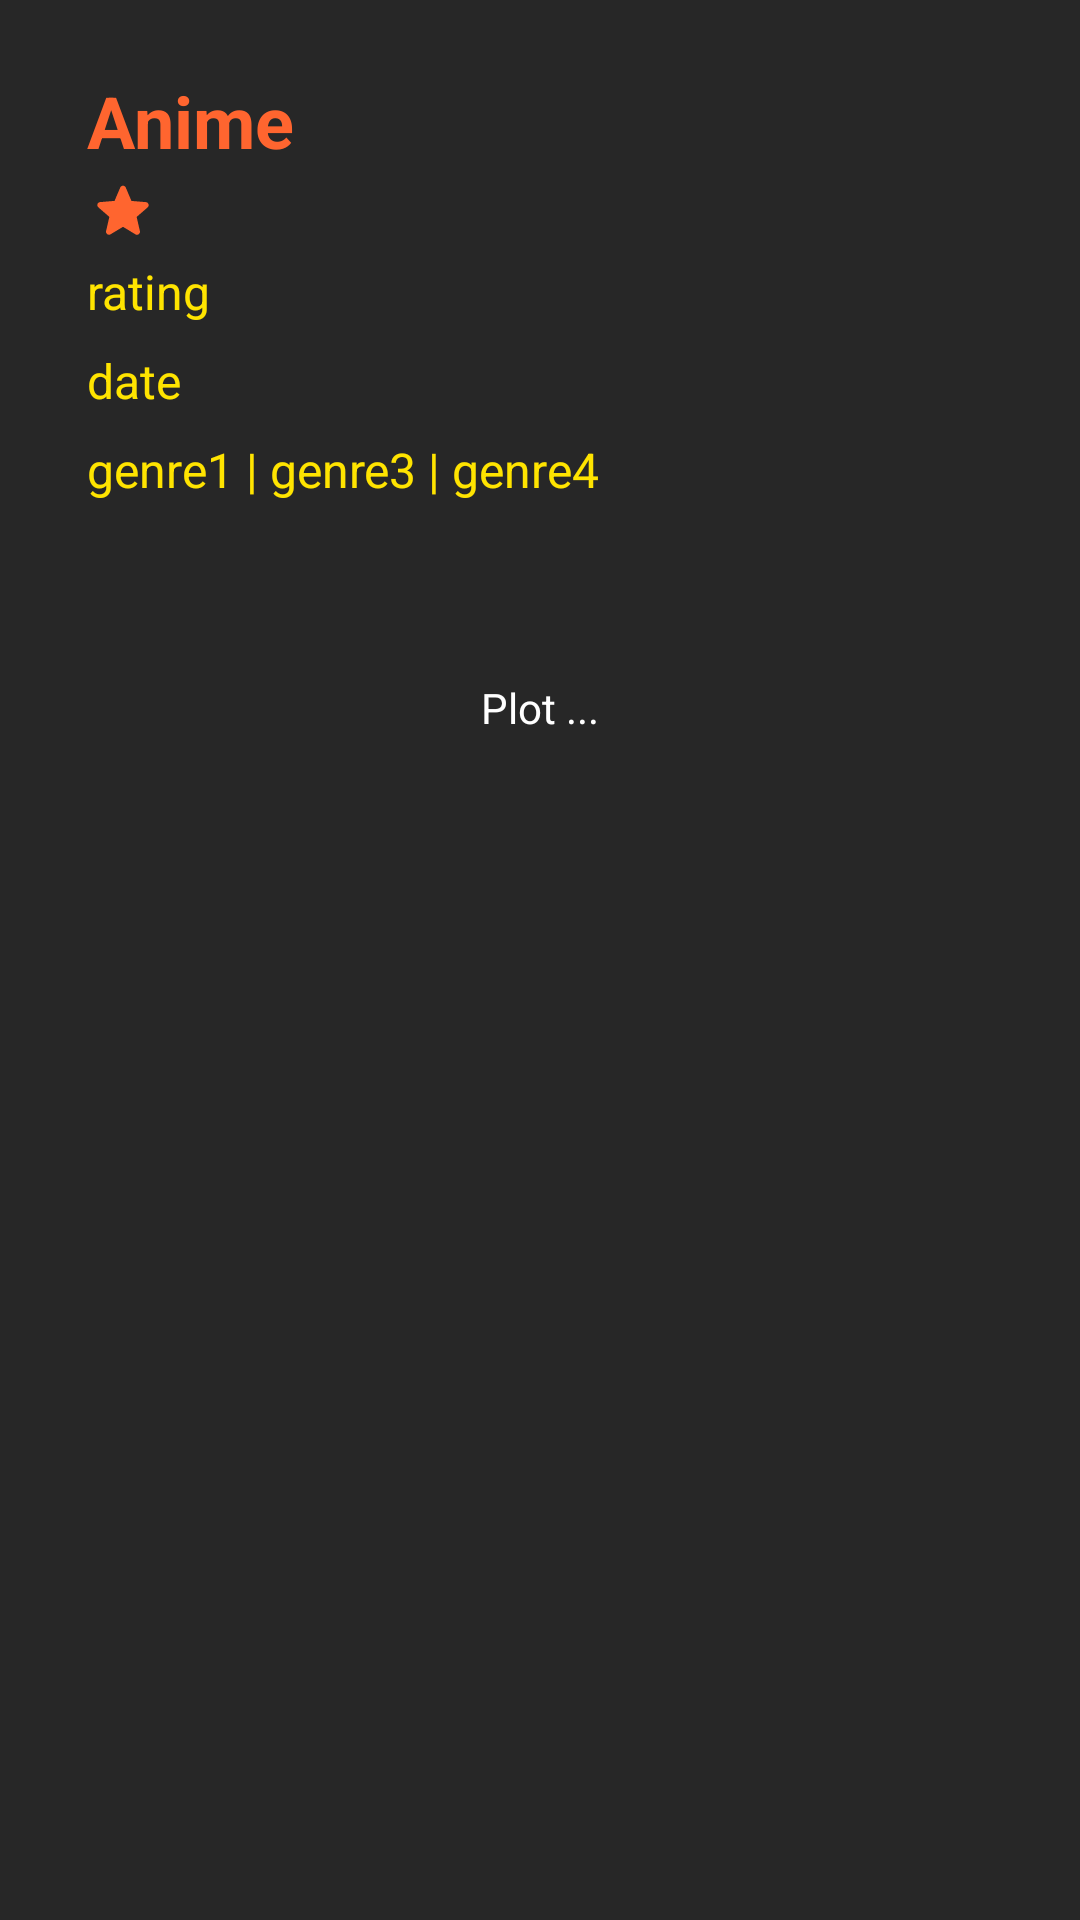

Icons on this 1080*1920 Android screen, each with the point to tap as (x,y):
star: (123,210)
